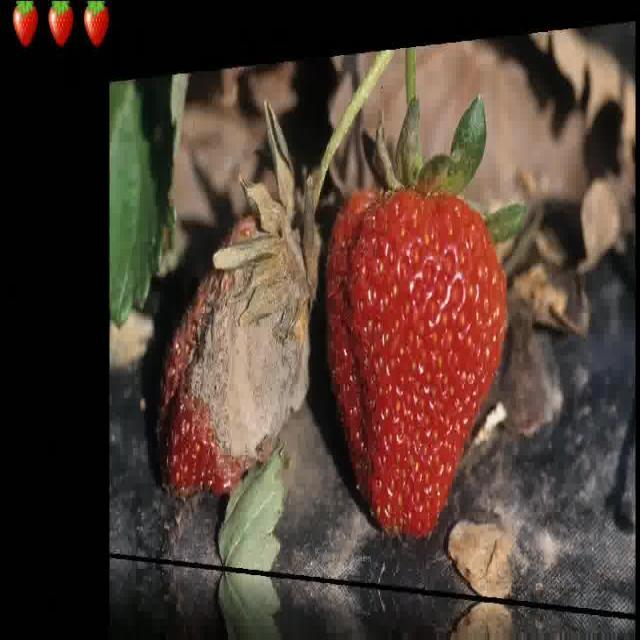Moho gris: (153, 192, 313, 494)
